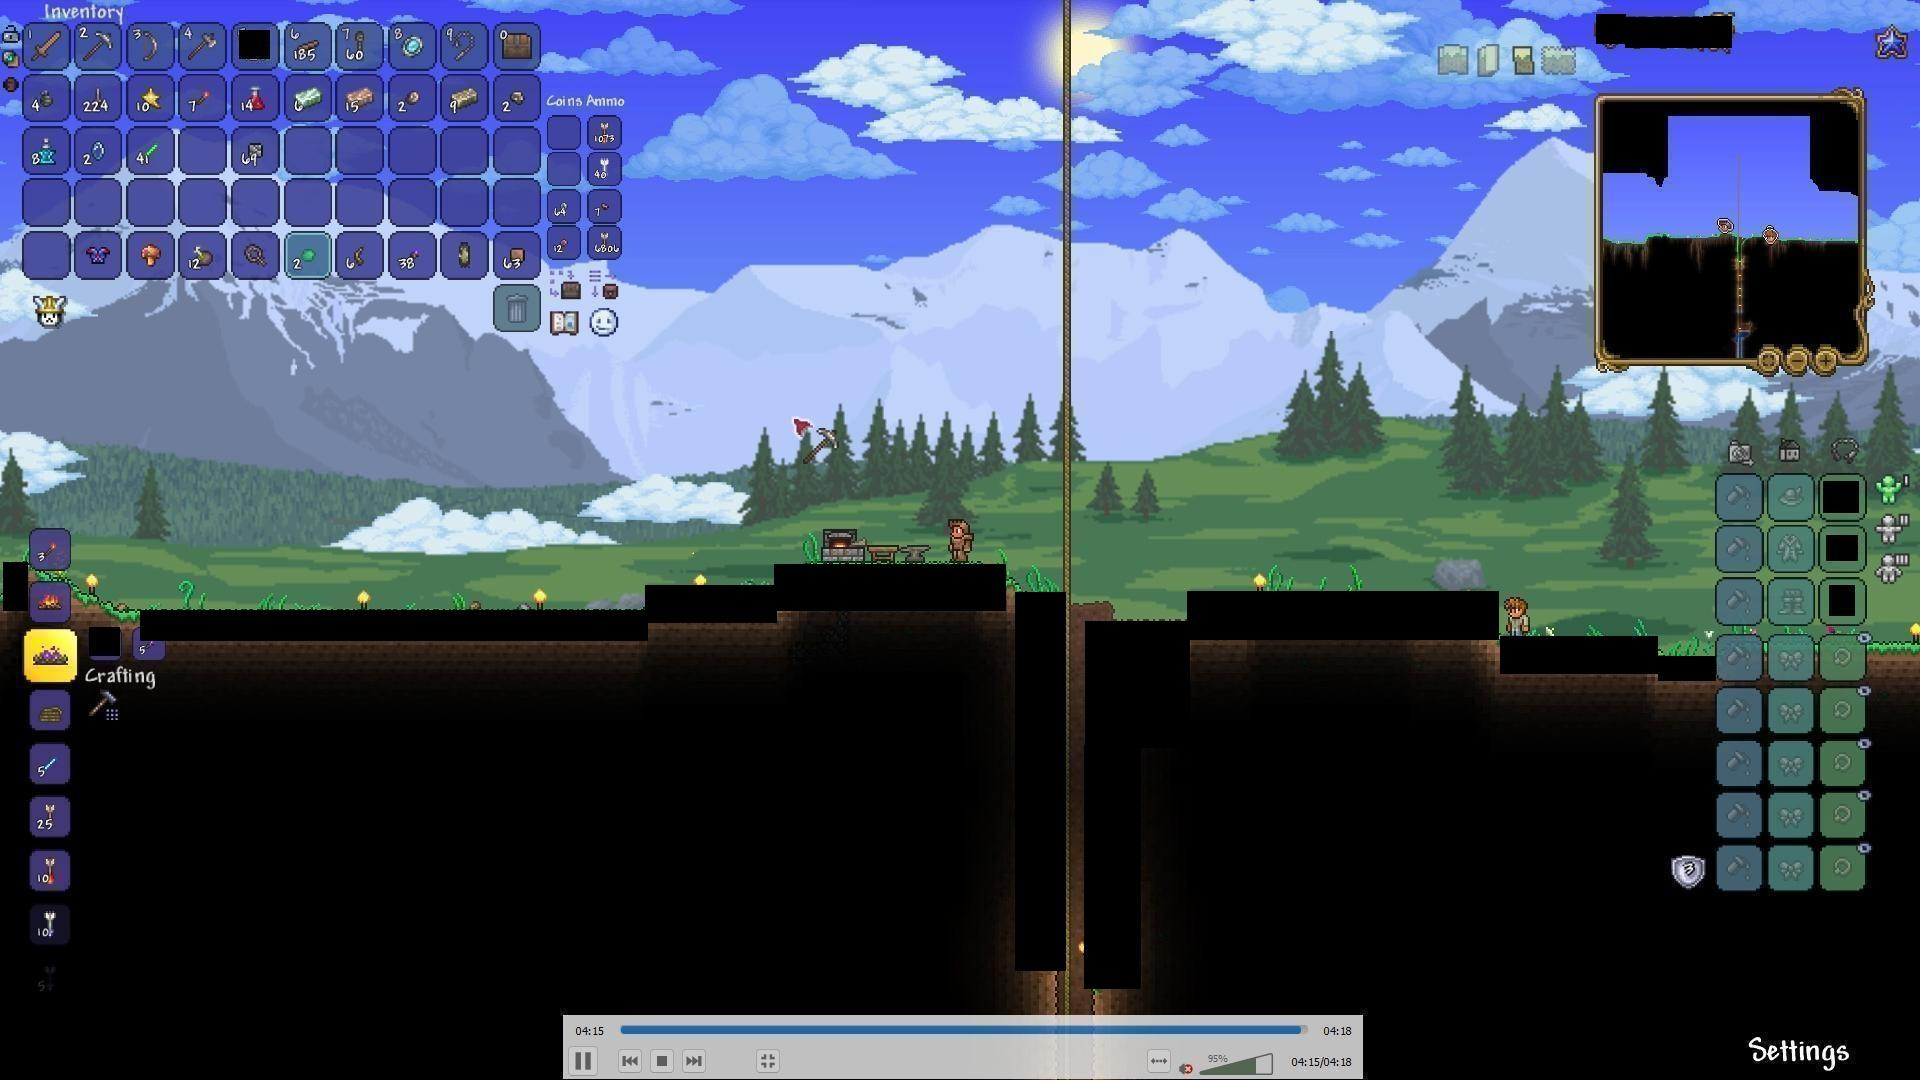breastplate: (82, 243, 113, 268)
dirt: (67, 585, 138, 622), (1867, 638, 1919, 680)
workbench: (864, 545, 899, 568)
